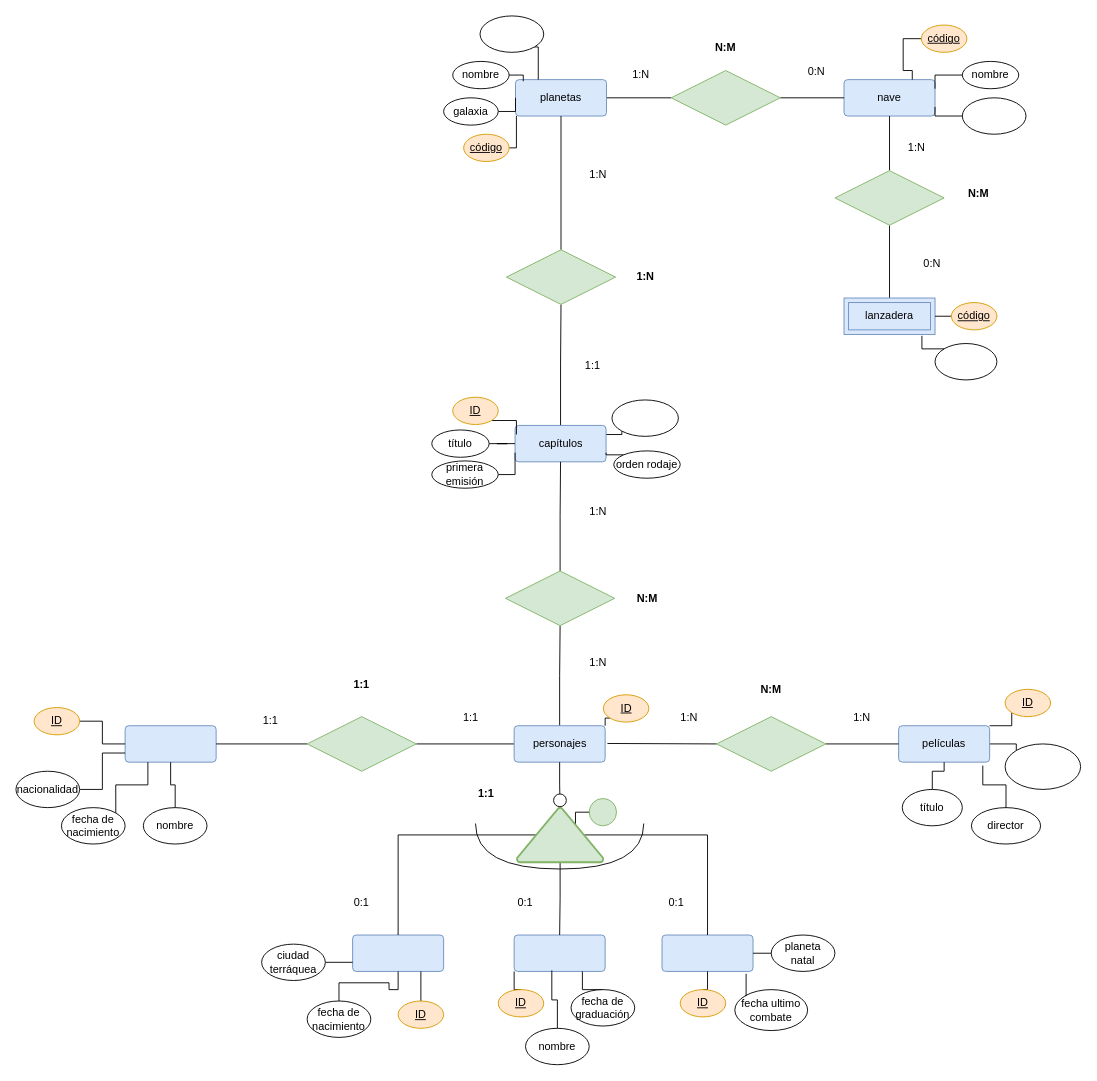
Image size: 1097x1081. Some labels were removed from this diagram. The box of each missing label's shape, as (x1, y1, x2, y2) in pixels:
actores: (124, 725, 216, 762)
aparece: (716, 716, 826, 771)
año lanzamiento: (1004, 743, 1081, 789)
humano: (352, 934, 444, 971)
interpreta: (306, 716, 416, 771)
klingon: (661, 934, 753, 971)
num tripulantes: (961, 97, 1026, 134)
número entero: (934, 343, 997, 380)
participa: (505, 570, 615, 626)
problema resuelto: (479, 15, 544, 52)
temporada: (611, 399, 678, 436)
tiene: (834, 170, 944, 225)
tipo: (588, 798, 617, 826)
viaje: (670, 70, 780, 125)
visita: (506, 249, 616, 304)
vulkano: (513, 934, 605, 971)
